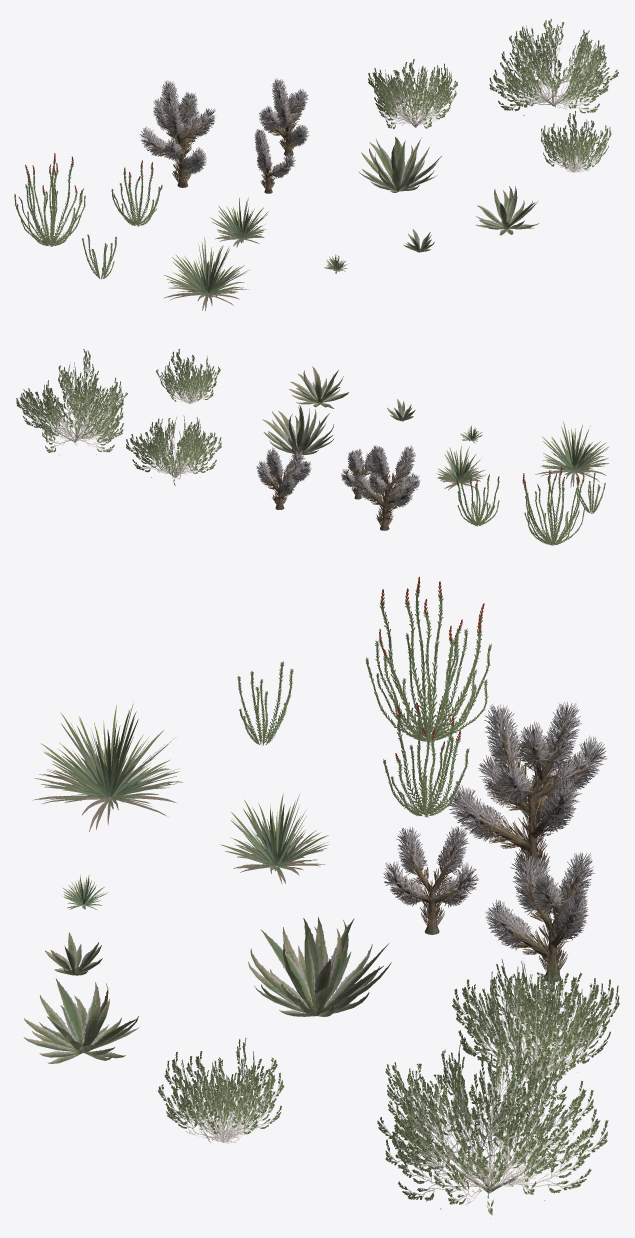
The model's file is desert_shrubs.glb.
3 renders of one model, top to bottom at view 1: azimuth 30°, elevation 25°; view 2: azimuth 150°, elevation 25°; view 3: azimuth 270°, elevation 25°, orthographic. The views are drawn at different scales.
Parts seen in each view (by area): view 1: creosote branch 02_7, cholla 01_9, agave_2, yacca leaf 01_3, ocotillo branch 02_6, cholla 02_8, ocotillo branch 01_5, bark_1, yacca leaf 02_4; view 2: creosote branch 02_7, cholla 01_9, agave_2, yacca leaf 01_3, ocotillo branch 02_6, cholla 02_8, ocotillo branch 01_5, bark_1, yacca leaf 02_4, bark 02_0; view 3: creosote branch 02_7, cholla 01_9, agave_2, yacca leaf 01_3, cholla 02_8, ocotillo branch 02_6, ocotillo branch 01_5, bark_1, yacca leaf 02_4, bark 02_0.
Boxes of the visible parts, x1,y1,x2,y2 form: creosote branch 02_7: [368, 18, 618, 172]; cholla 01_9: [139, 78, 309, 178]; agave_2: [358, 137, 539, 252]; yacca leaf 01_3: [163, 197, 347, 301]; ocotillo branch 02_6: [19, 153, 162, 245]; cholla 02_8: [149, 96, 304, 189]; ocotillo branch 01_5: [14, 183, 159, 279]; bark_1: [148, 91, 301, 193]; yacca leaf 02_4: [164, 224, 264, 310]; creosote branch 02_7: [16, 349, 221, 485]; cholla 01_9: [256, 445, 419, 507]; agave_2: [262, 366, 415, 454]; yacca leaf 01_3: [436, 421, 609, 486]; ocotillo branch 02_6: [456, 466, 584, 544]; cholla 02_8: [265, 457, 414, 527]; ocotillo branch 01_5: [457, 473, 605, 545]; bark_1: [263, 456, 412, 530]; yacca leaf 02_4: [437, 450, 608, 490]; bark 02_0: [46, 390, 189, 477]; creosote branch 02_7: [157, 958, 619, 1218]; cholla 01_9: [383, 701, 607, 950]; agave_2: [23, 917, 391, 1063]; yacca leaf 01_3: [34, 703, 328, 909]; cholla 02_8: [390, 740, 590, 973]; ocotillo branch 02_6: [379, 576, 484, 814]; ocotillo branch 01_5: [237, 628, 491, 817]; bark_1: [393, 721, 591, 981]; yacca leaf 02_4: [33, 750, 325, 884]; bark 02_0: [424, 1028, 554, 1193].
Size of the model in its own units: 7.53 by 1.28 by 3.65.
Materials: 10 (10 with a texture image).
